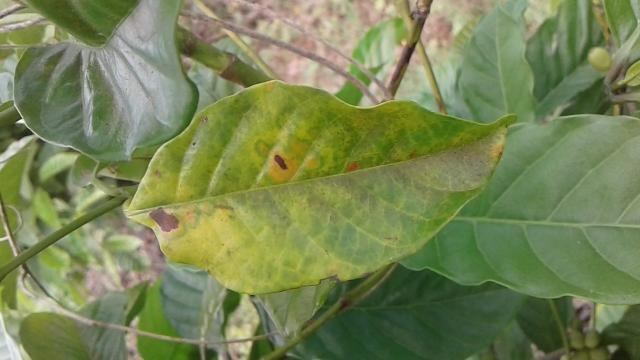red_spider_mite: (132, 89, 516, 294)
